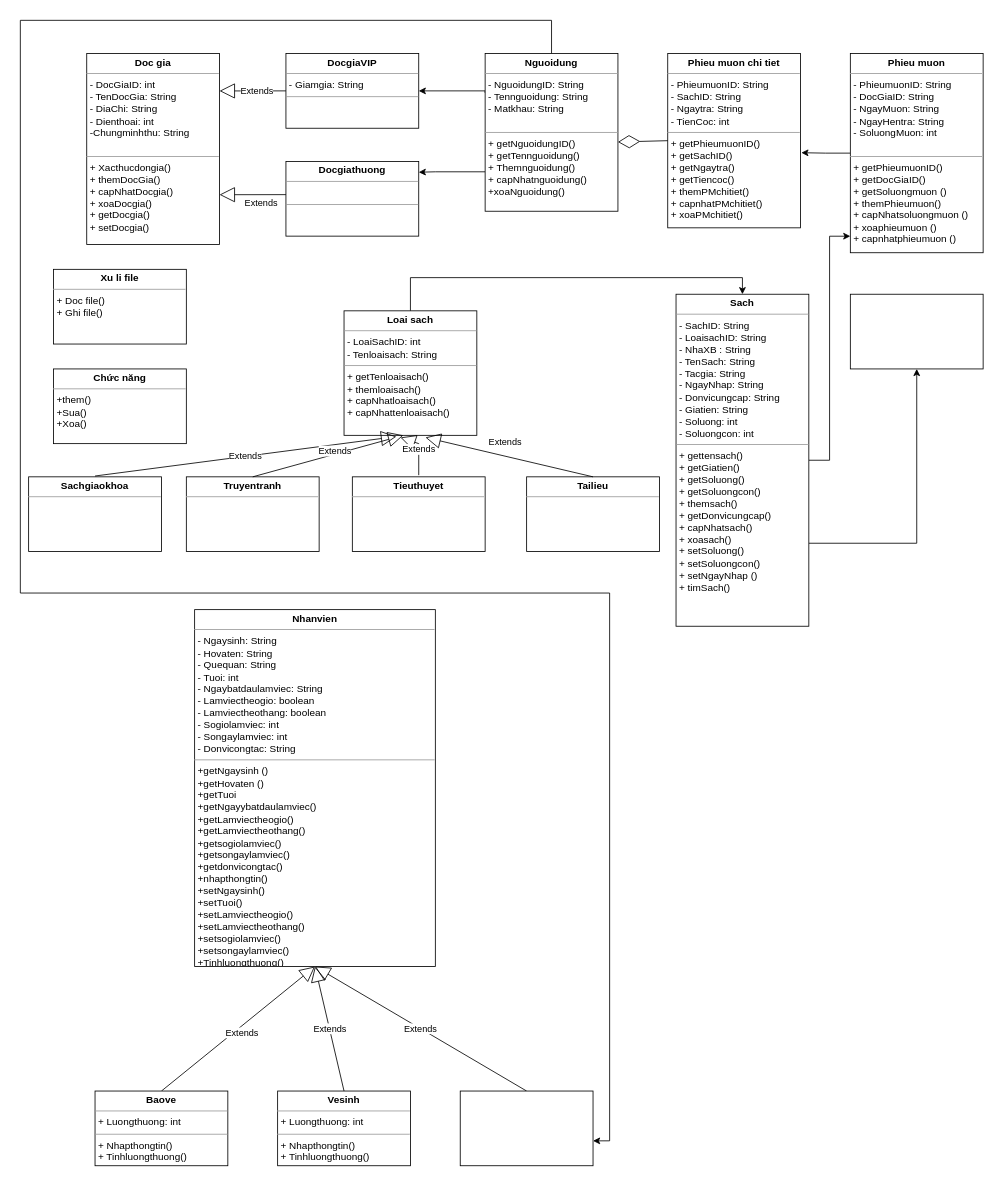
Image size: 998x1180. Some labels were removed from this diagram. Here are the shapes that lost their labels. From the top down, the centre of each, then its label:
the point at 916,331: Danh sach sach - DSsach: Sach + NhapDSSsach() + HienthiDanhSach()
the point at 526,1128: Quanlysach + Luongthuong: int + Nhapthongtin() + Tinhluongthuong()
